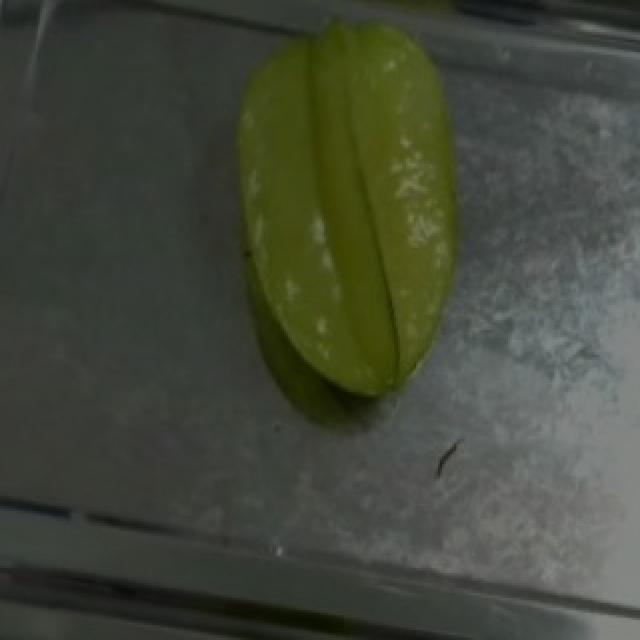fruit: (206, 5, 512, 394)
